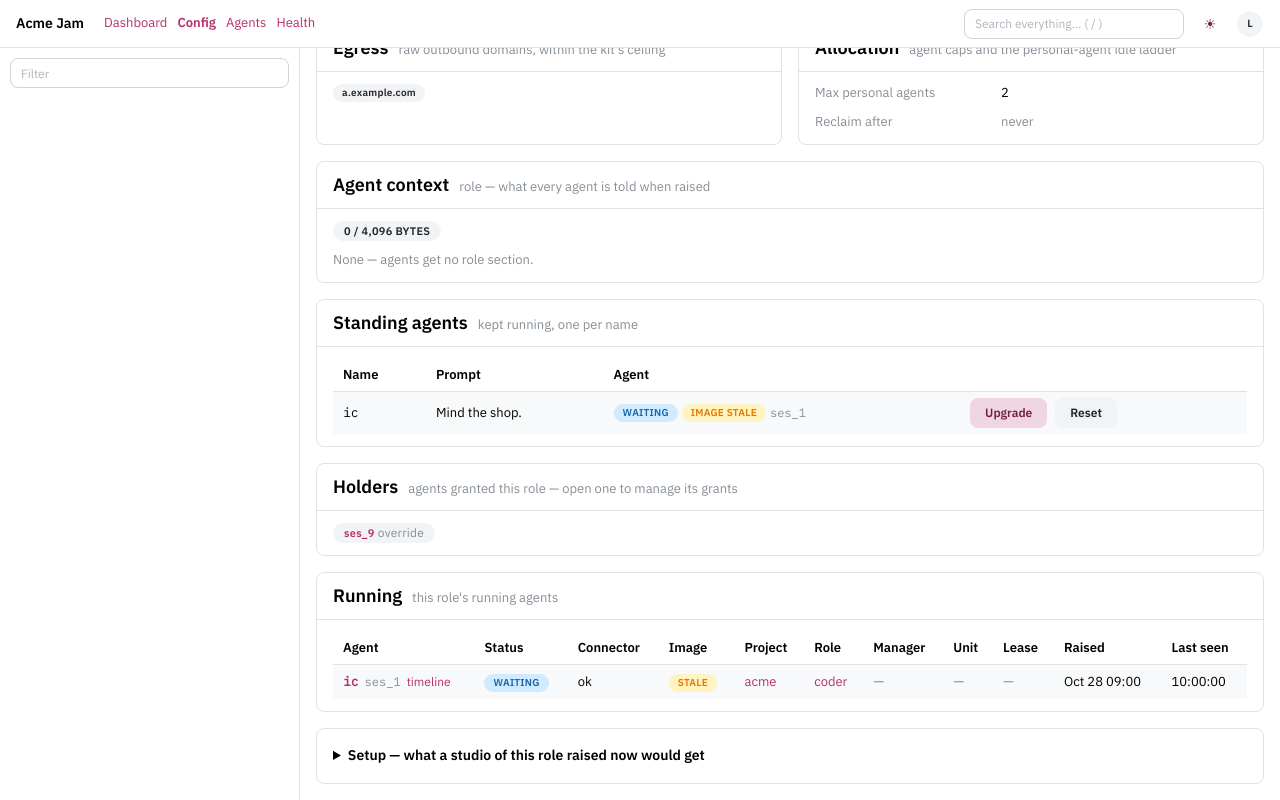
Test: a role's Setup › doesn't re-inspect on focus, nor retry a refused inspection
(page scrolled)
Click the heading "Setup — what a studio of this role raised now would get" at (526, 755), box [348, 746, 705, 764]
(page scrolled)
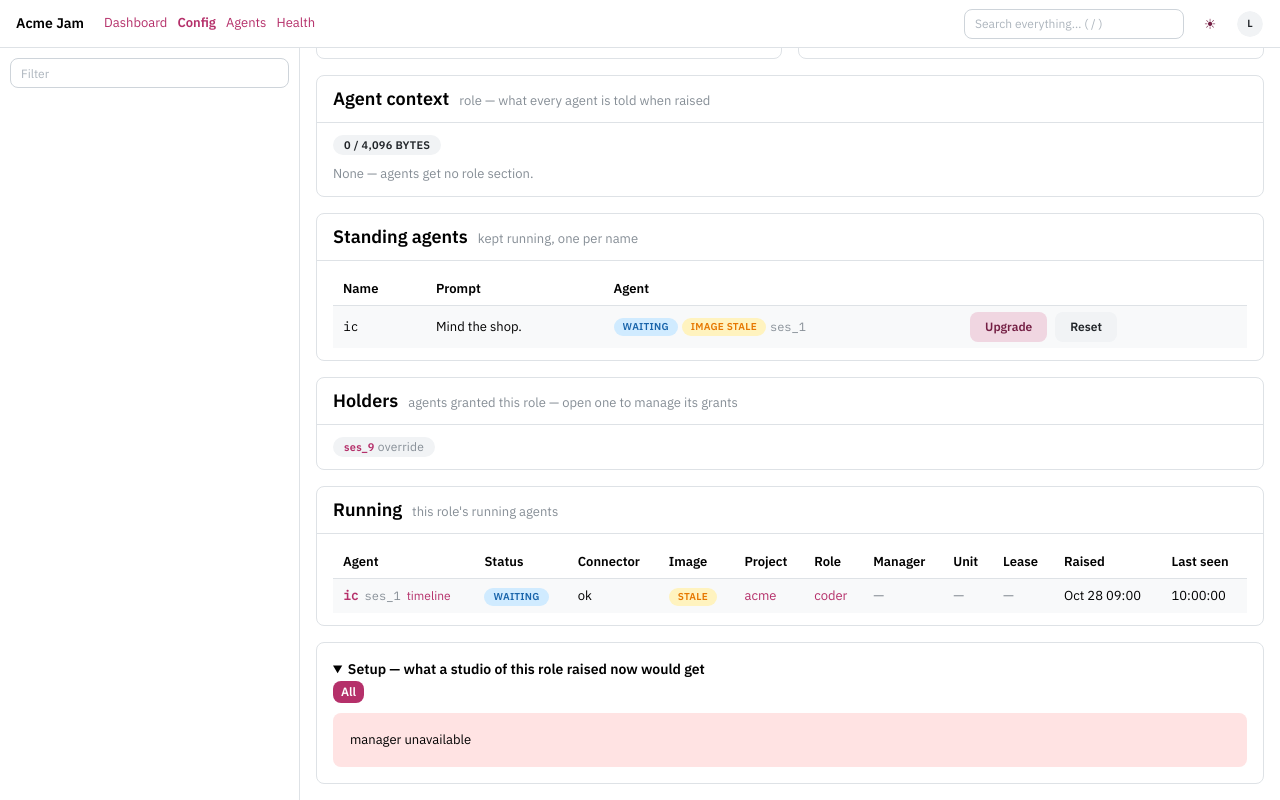
Check: the text "manager unavailable" is shown, box [350, 731, 471, 748]
